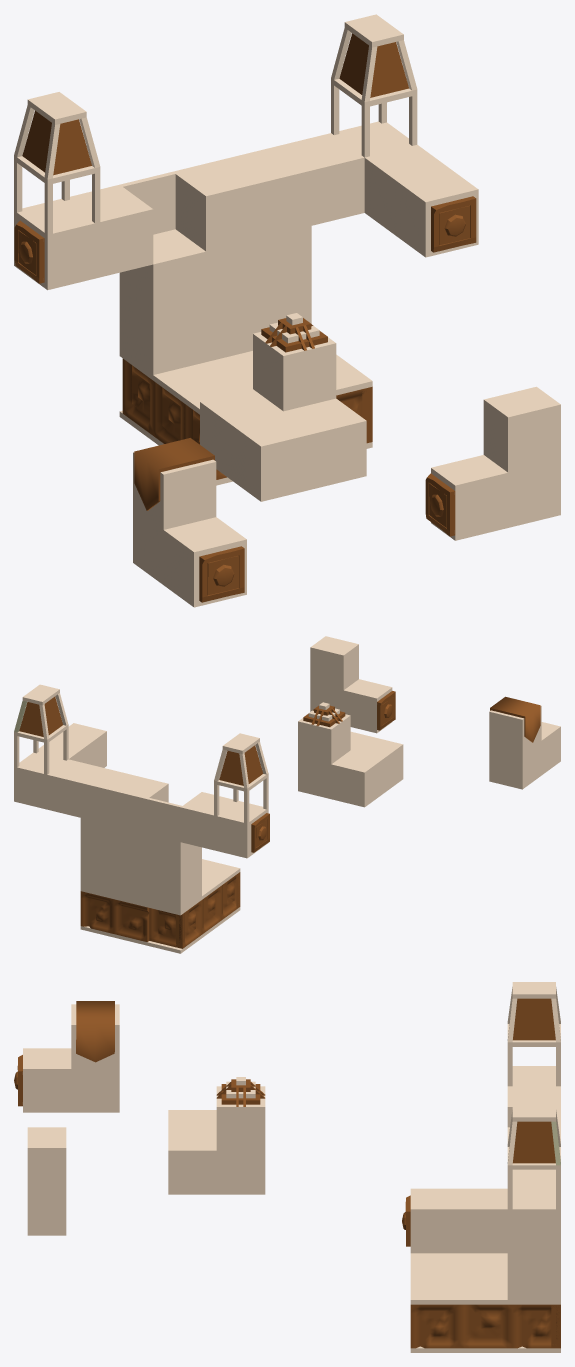
Rendered from cube_gap_env.fbx.
The picture shows the model from 3 angles, top to bottom: view 1: azimuth 30°, elevation 25°; view 2: azimuth 150°, elevation 25°; view 3: azimuth 270°, elevation 25°; orthographic projection. The views are drawn at different scales.
Parts seen in each view (by area): view 1: cube_gap_env; view 2: cube_gap_env; view 3: cube_gap_env.
Boxes of the visible parts, bbox=[...] form: cube_gap_env: bbox=[14, 14, 560, 607]; cube_gap_env: bbox=[14, 636, 560, 953]; cube_gap_env: bbox=[14, 982, 560, 1352].
Size of the model in its own units: 100 by 62 by 113.
